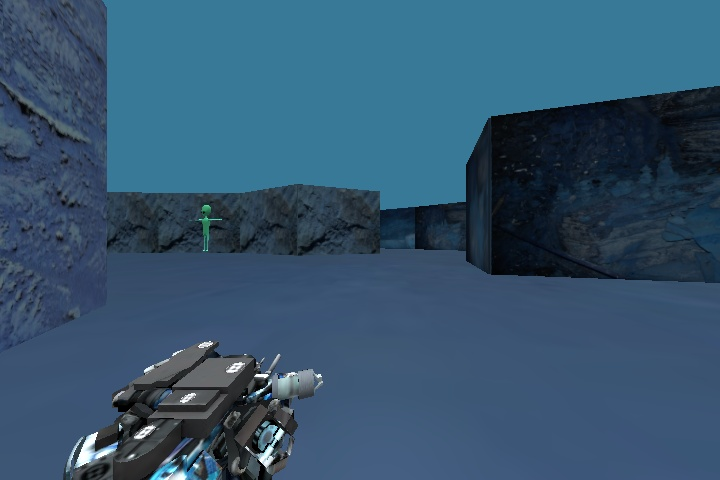green_alien: (186, 202, 228, 256)
